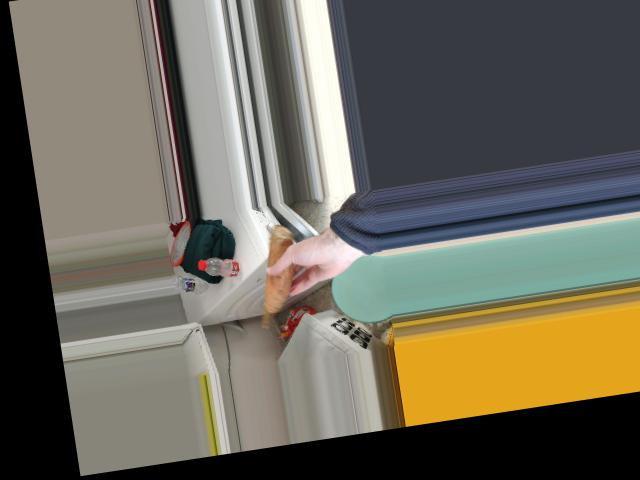sweet_potato: (244, 228, 308, 326)
